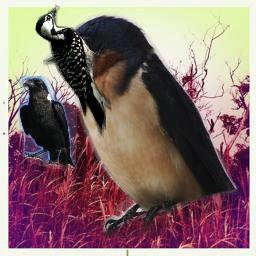Crow: (18, 76, 77, 169)
Swallow: (43, 13, 239, 238)
Woodpecker: (34, 4, 106, 138)
